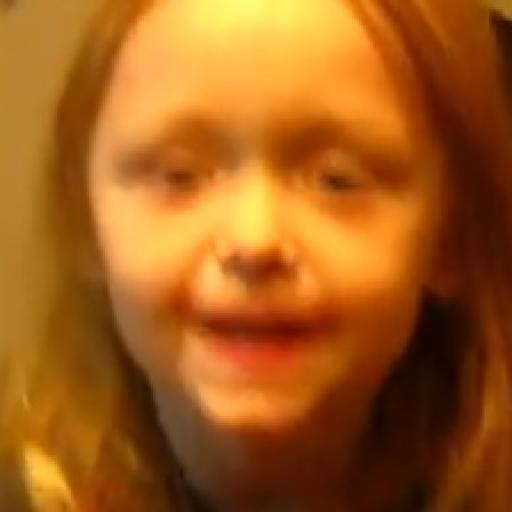Autism: (30, 0, 512, 464)
